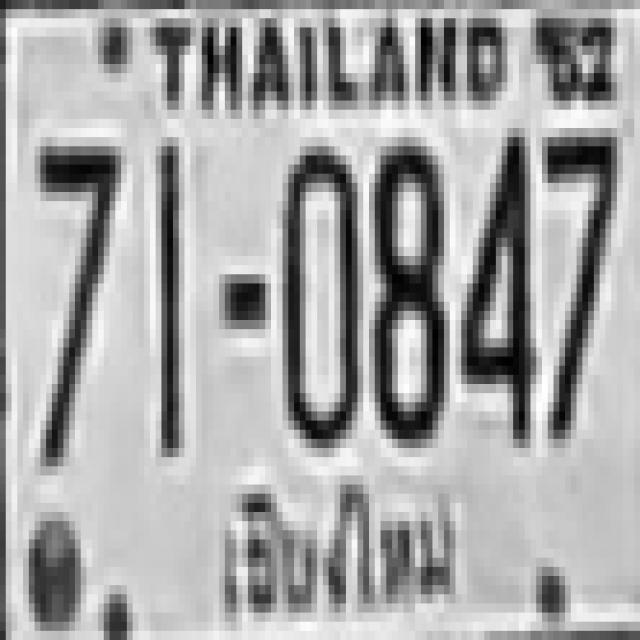0: (280, 137, 354, 439)
1: (152, 137, 182, 448)
4: (456, 128, 530, 439)
7: (35, 137, 115, 457), (542, 128, 611, 439), (542, 128, 611, 393), (35, 142, 115, 361), (542, 128, 611, 366), (542, 128, 611, 329)
8: (369, 137, 438, 439)
CMI: (211, 475, 467, 629)
